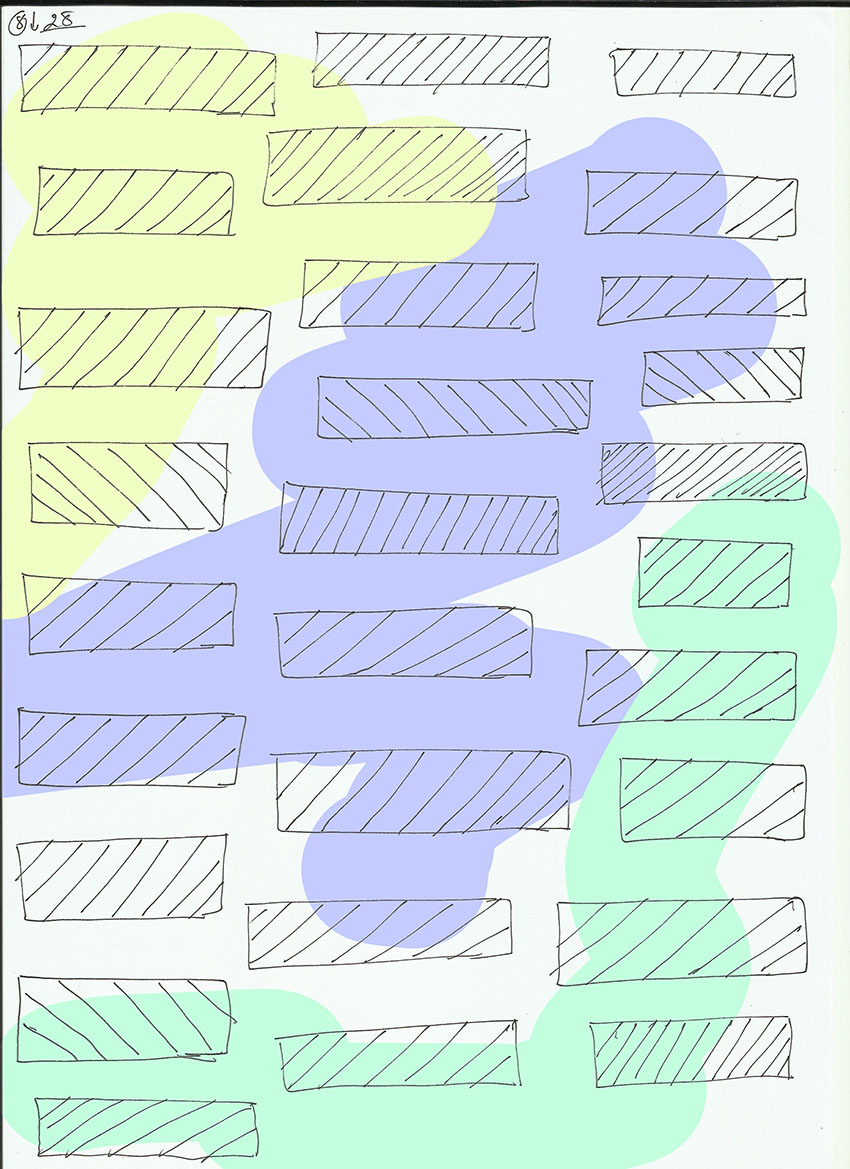frame: (267, 744, 575, 836), (546, 896, 812, 991), (11, 302, 275, 394), (260, 123, 532, 209), (277, 480, 561, 558), (242, 896, 519, 973), (13, 38, 279, 118), (23, 436, 235, 536), (269, 605, 535, 684), (13, 972, 237, 1065), (12, 704, 249, 791), (11, 830, 229, 924), (17, 567, 239, 659), (271, 1017, 525, 1096), (575, 644, 802, 730), (295, 256, 541, 333), (616, 753, 812, 847), (314, 372, 587, 437), (585, 1011, 796, 1094), (310, 25, 554, 96), (581, 165, 798, 244), (31, 161, 239, 241), (594, 438, 813, 512), (32, 1093, 262, 1163), (635, 531, 794, 613), (598, 271, 810, 327), (639, 342, 810, 410), (605, 44, 801, 100)
